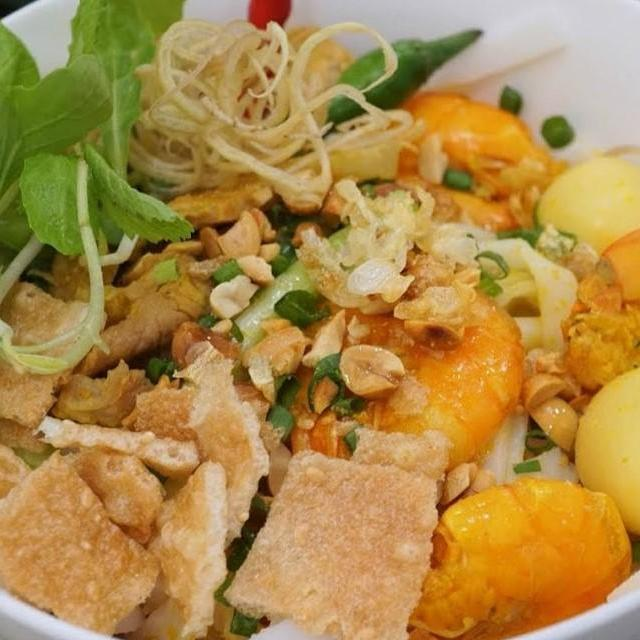banh da: (46, 341, 276, 558), (214, 445, 443, 640), (0, 431, 166, 640), (116, 452, 233, 640), (0, 270, 110, 433)
mi: (410, 210, 588, 500), (422, 208, 604, 365)
thit heo: (41, 231, 224, 384)
tom: (283, 254, 526, 507), (382, 466, 636, 640), (362, 84, 562, 238), (553, 224, 640, 402)
trung: (567, 357, 640, 544), (533, 151, 640, 268)
